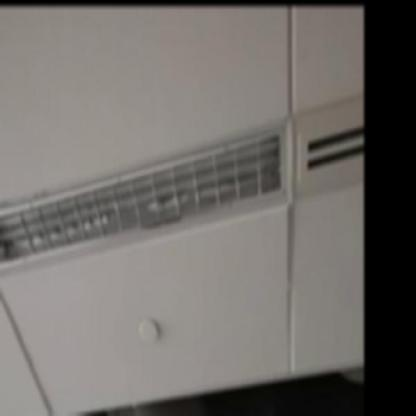light_off: (0, 104, 298, 278)
